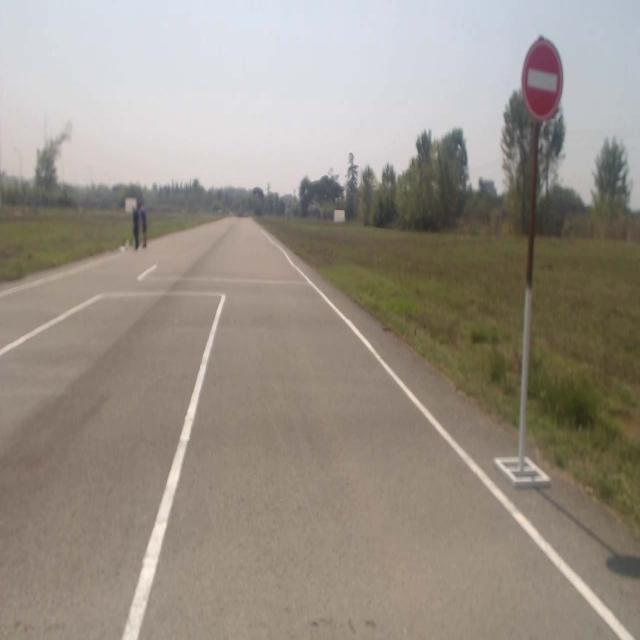girisyok: (523, 40, 563, 119)
